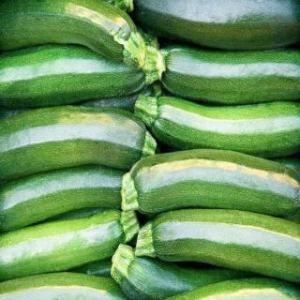zucchini: (146, 38, 300, 100)
